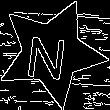N_N: (28, 25, 75, 81)
